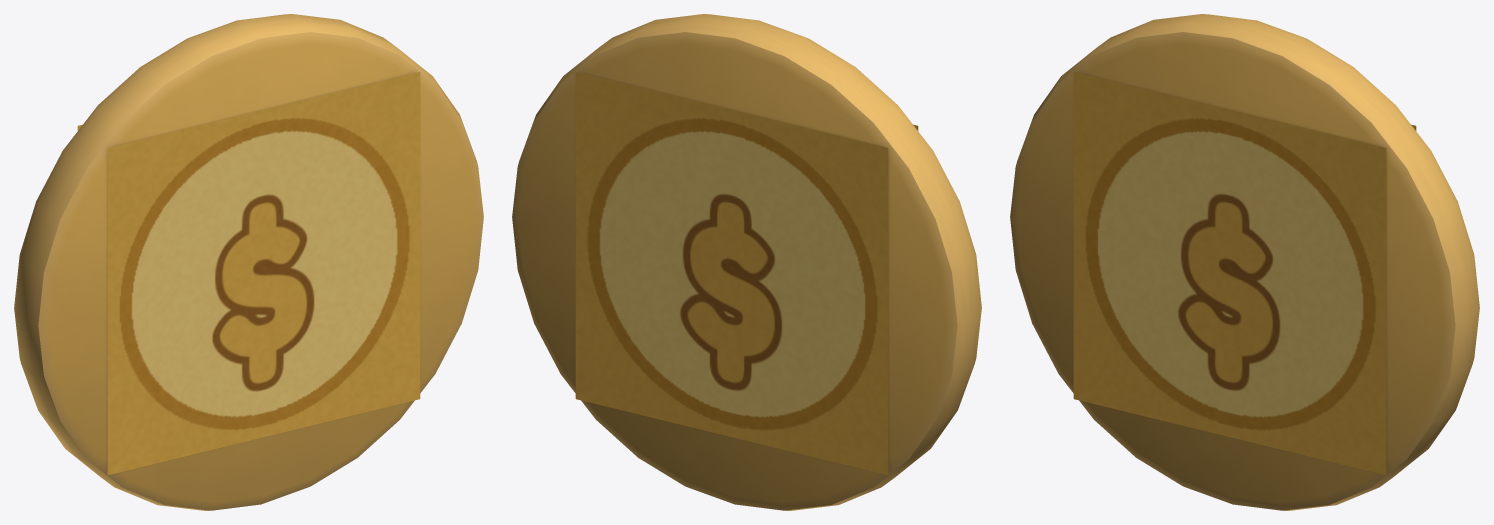
The model's file is GoldCoin.fbx.
The picture shows the model from 3 angles, left to right: view 1: azimuth 30°, elevation 25°; view 2: azimuth 150°, elevation 25°; view 3: azimuth 330°, elevation 25°; orthographic projection.
Visible parts, largest first — view 1: GoldCoin; view 2: GoldCoin; view 3: GoldCoin.
Boxes of the visible parts, x1=… form: GoldCoin: x1=14, y1=14, x2=483, y2=510; GoldCoin: x1=512, y1=14, x2=981, y2=510; GoldCoin: x1=1010, y1=14, x2=1479, y2=510.
Bounding box in the file's own units: 68 × 68 × 7.82.
